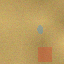person: (37, 25, 43, 34)
vehicle: (38, 46, 52, 61)
